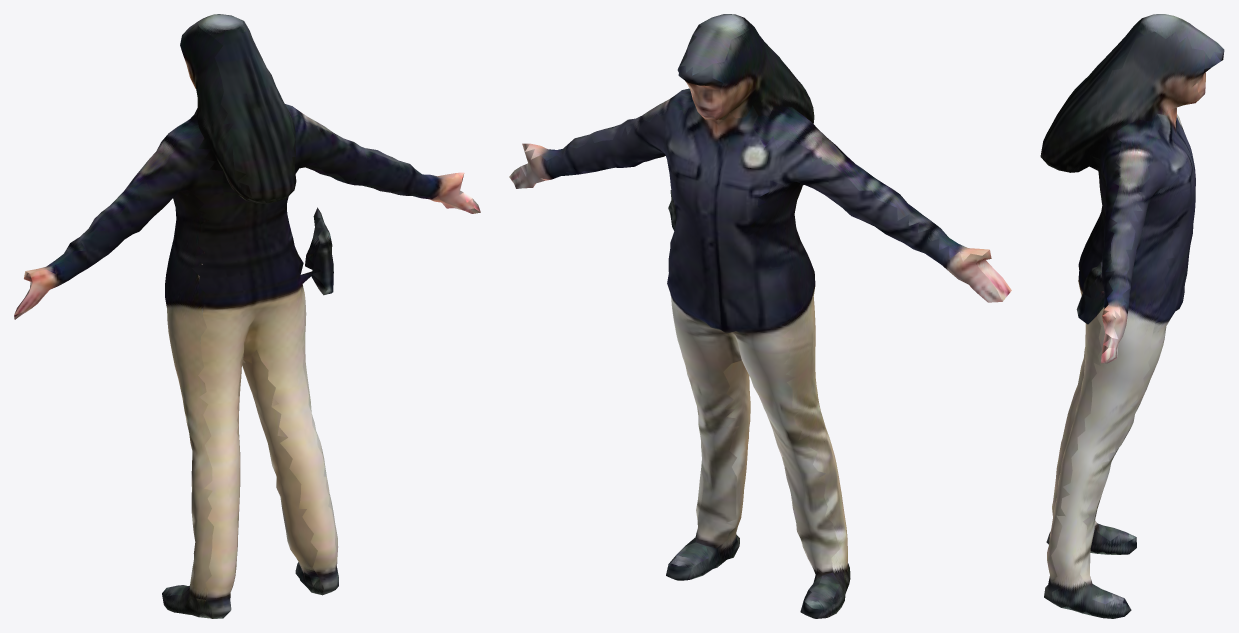
3 views of the same model, side by side, from view 1: azimuth 30°, elevation 25°; view 2: azimuth 150°, elevation 25°; view 3: azimuth 270°, elevation 25° (orthographic). The views are drawn at different scales.
Parts seen in each view (by area): view 1: world; view 2: world; view 3: world.
Part boxes in pixels (<box>): world: <box>14,14,480,618</box>; world: <box>509,14,1011,618</box>; world: <box>1040,14,1224,618</box>.
Size of the model in its own units: 0.8766 by 0.9977 by 0.2937.
1 material, 1 textured.
